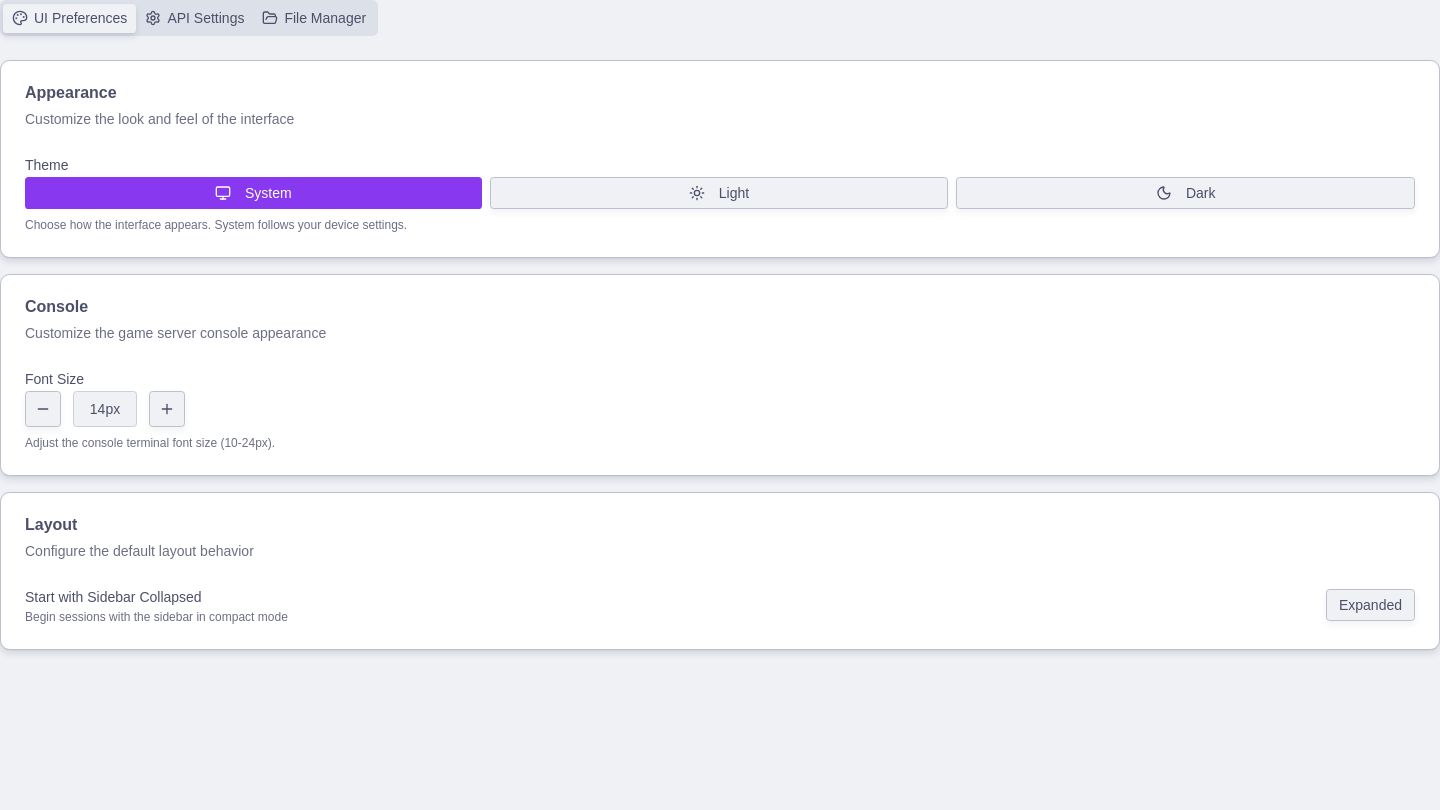
it: SettingsPage › API Settings tab content › loads API settings data
# Switch to API Settings tab
Click the tab with test id "api-settings-tab".
click(195, 18)  # box x1=136 y1=4 x2=253 y2=32
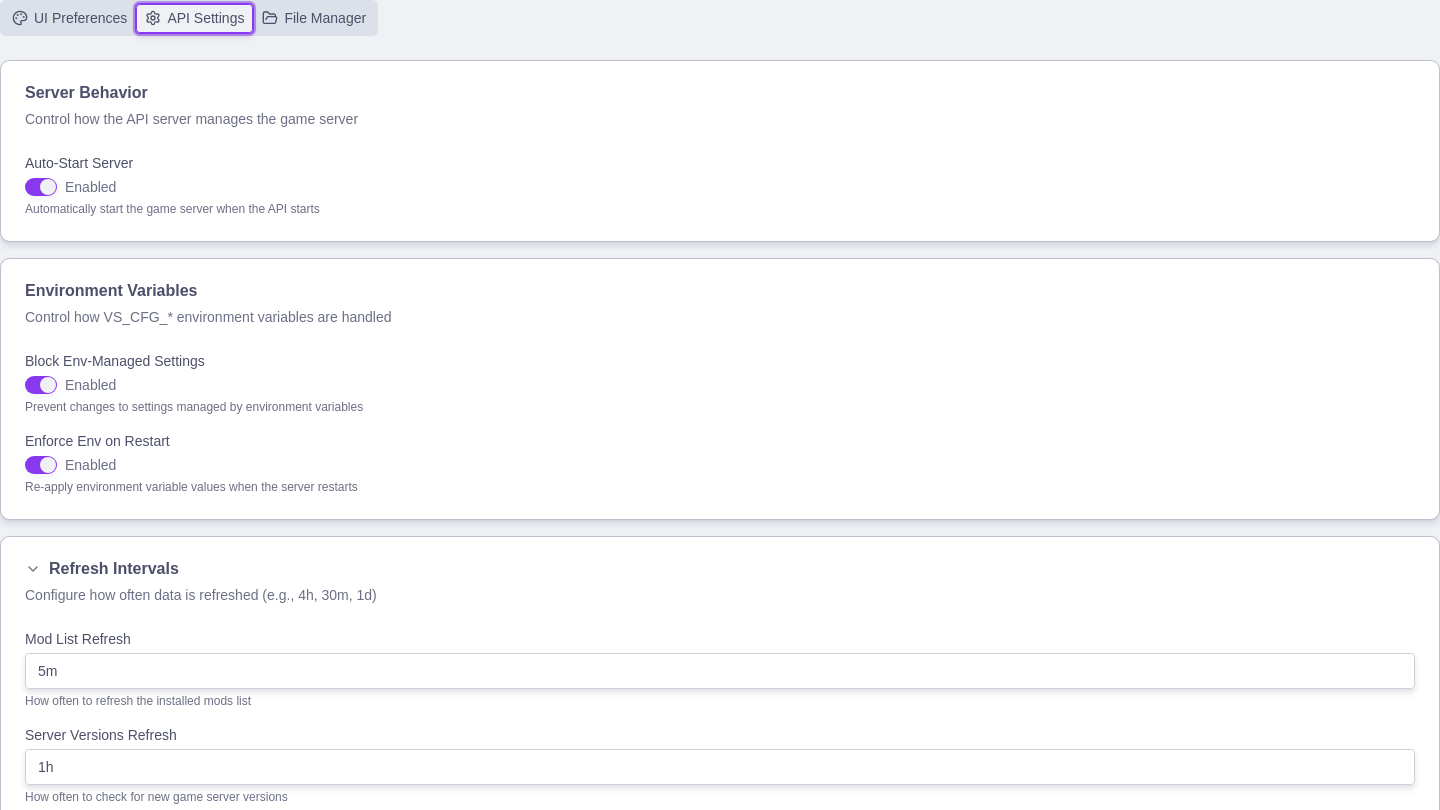
Result: the text "Server Behavior" is shown at x1=25 y1=85 x2=148 y2=101
